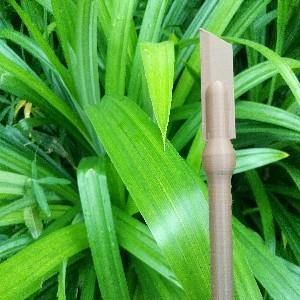cutter: (198, 25, 238, 300)
